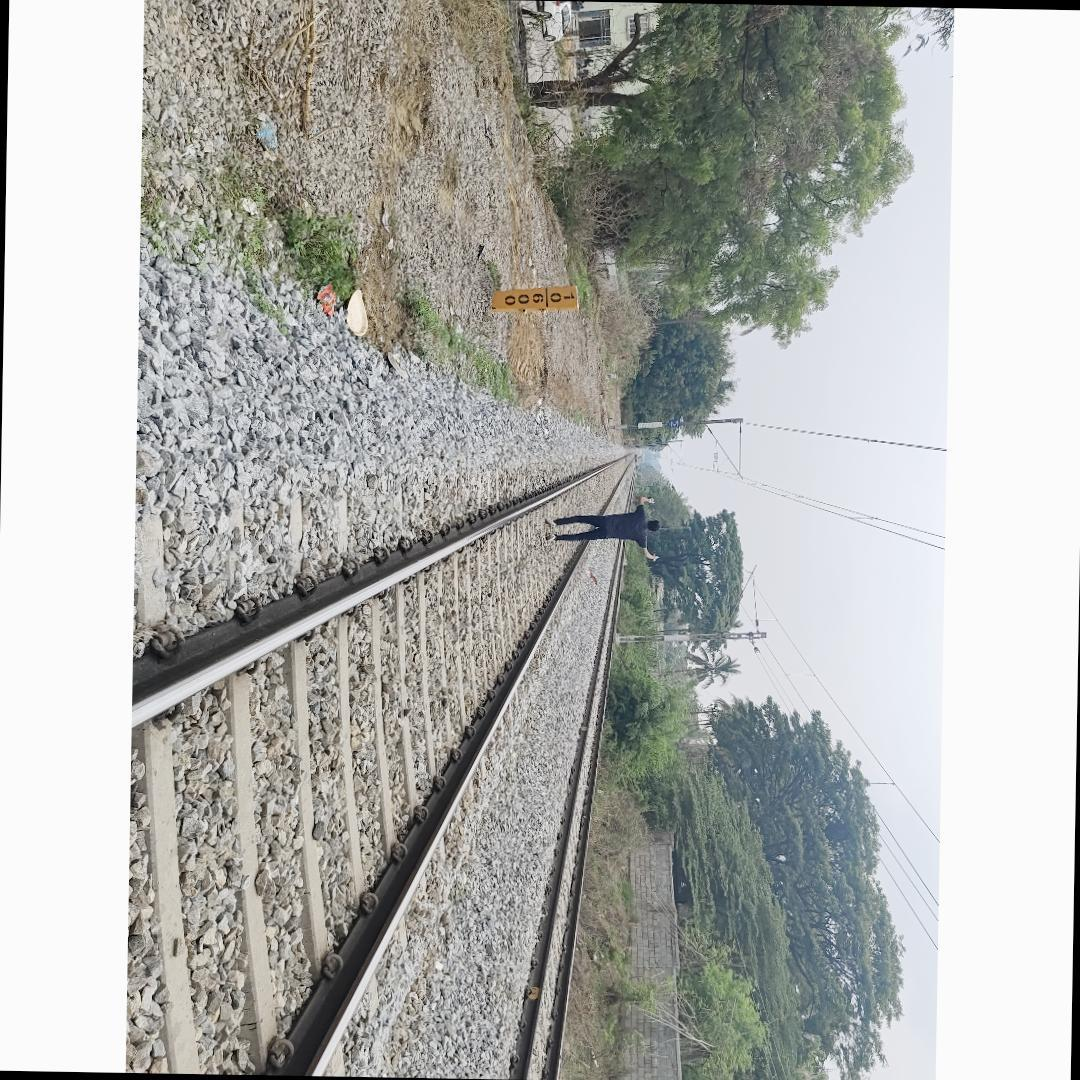standing: (546, 492, 664, 560)
track: (126, 436, 644, 1077)
